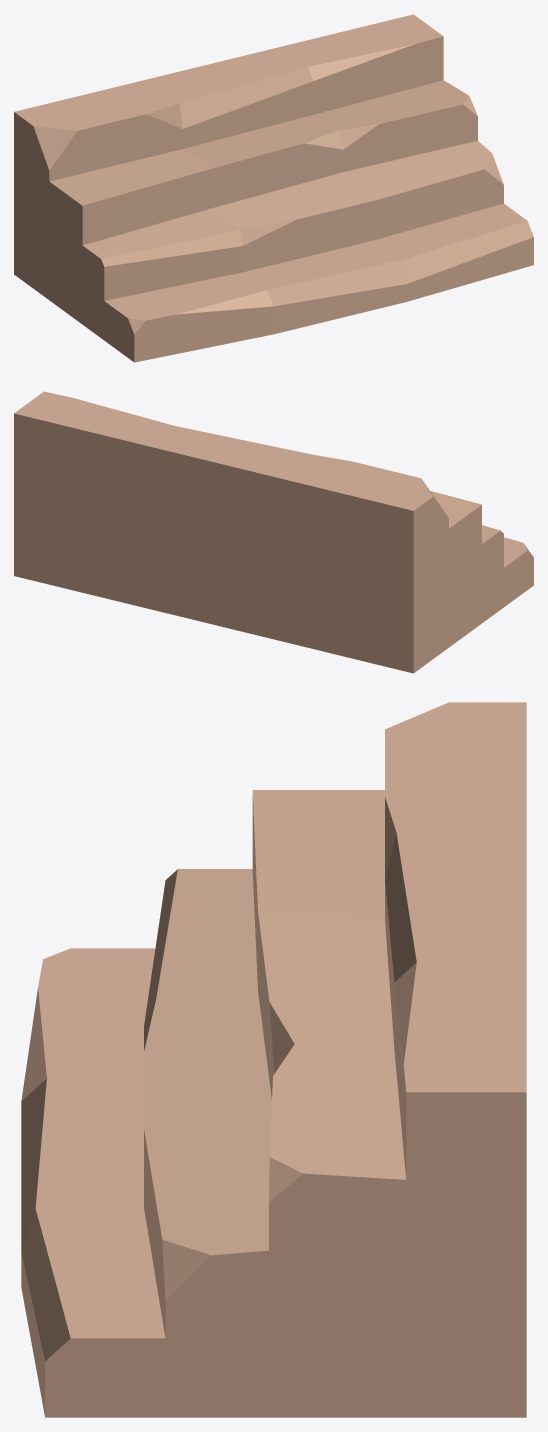
The model's file is Stairs.gltf.
3 views of the same model, one above another, from view 1: azimuth 30°, elevation 25°; view 2: azimuth 150°, elevation 25°; view 3: azimuth 270°, elevation 25° (orthographic). The views are drawn at different scales.
Parts seen in each view (by area): view 1: Stairs; view 2: Stairs; view 3: Stairs.
Part boxes in pixels (bbox=[...]): Stairs: bbox=[14, 14, 533, 362]; Stairs: bbox=[14, 391, 533, 673]; Stairs: bbox=[21, 702, 526, 1417].
Bounding box in the file's own units: 3.97 × 1.54 × 2.17.
